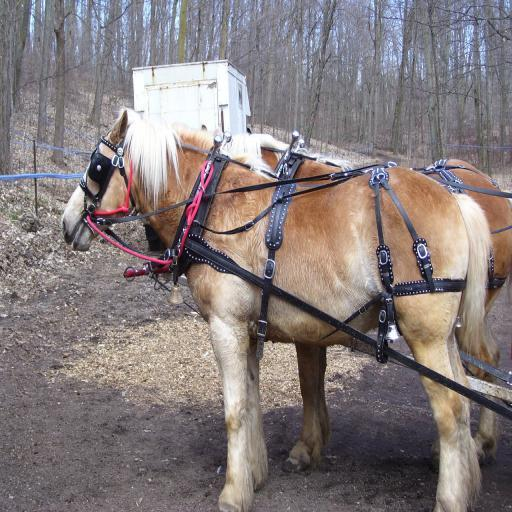horse: (61, 104, 499, 512), (138, 122, 512, 476)
